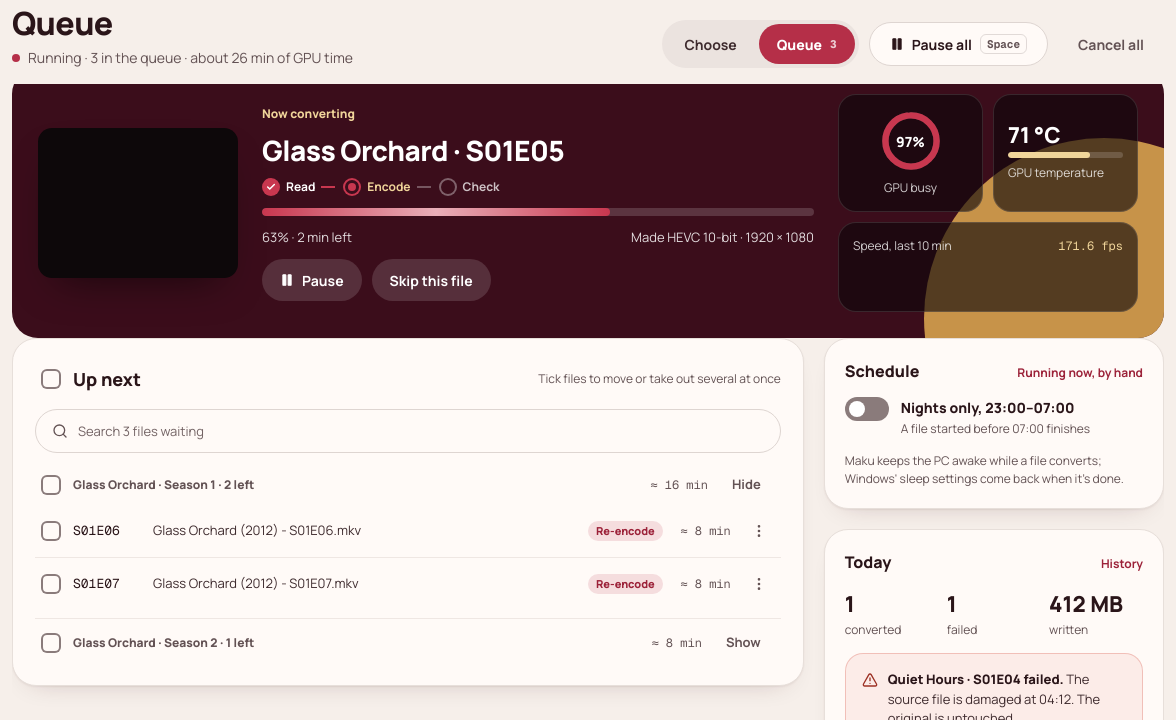
it: QueuePage › says why skipping, taking out or trying again didn't work
Click the button "Skip this file": (431, 280) [372, 259, 491, 301]
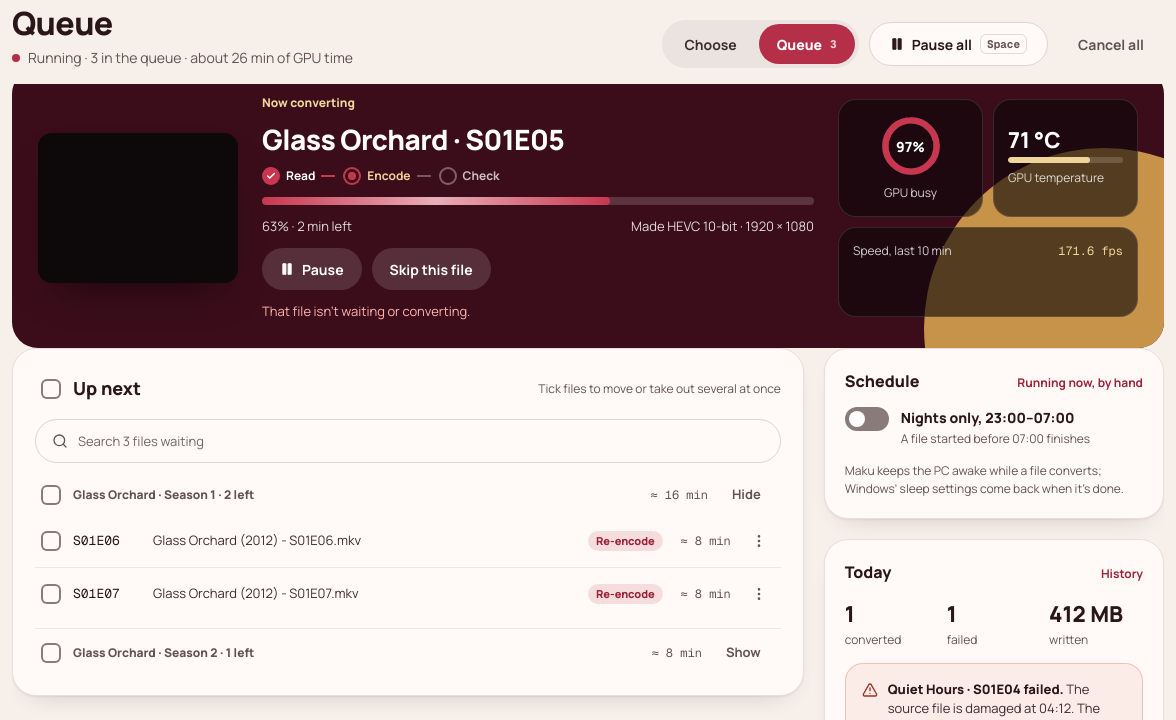
Now the text "That file isn't waiting or converting." is shown, box [262, 302, 470, 320]
Press Enter in the button named "More for Glass Orchard · S01E07", box [743, 578, 775, 610]
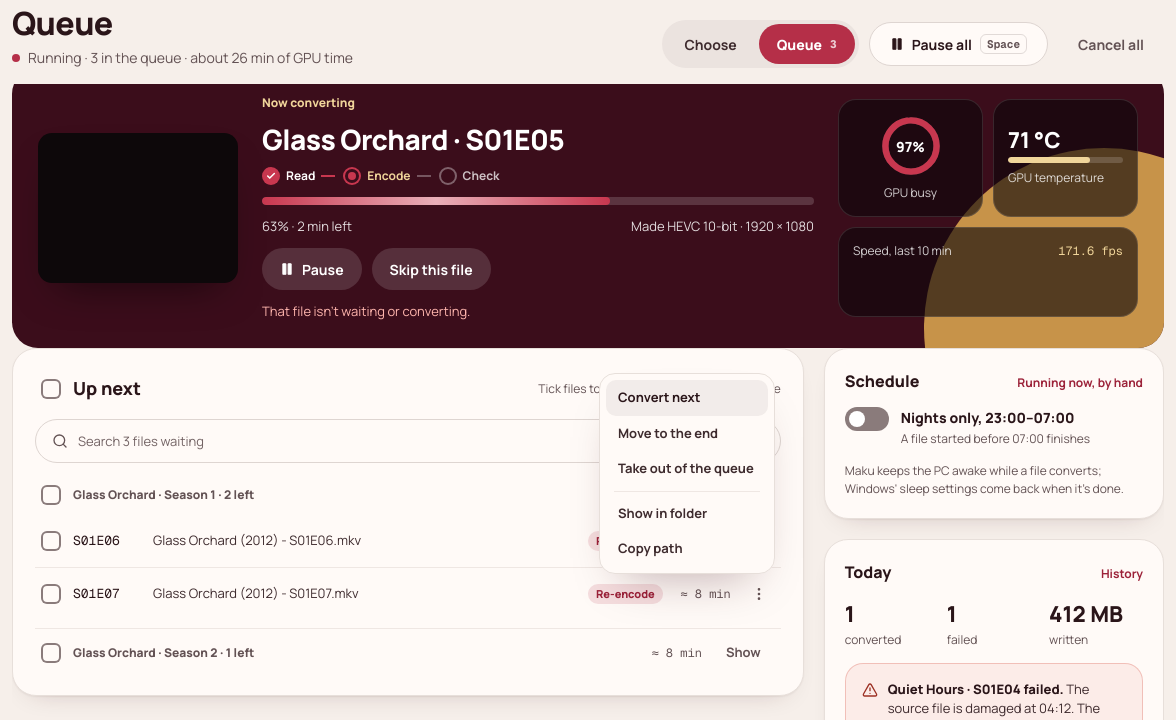
Click the menu item "Take out of the queue": (686, 468) [618, 459, 754, 477]
(page scrolled)
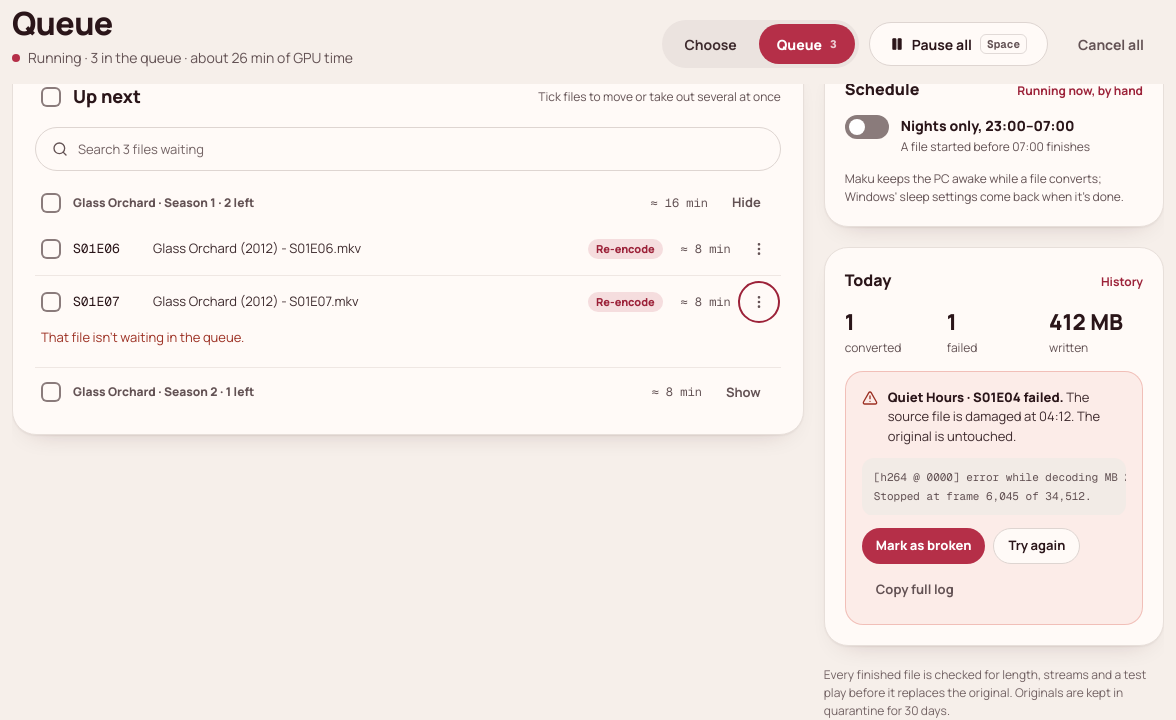
Now the text "That file isn't waiting in the queue." is shown, box [41, 328, 244, 346]
Click the button "Try again": (1037, 546) [994, 528, 1080, 564]
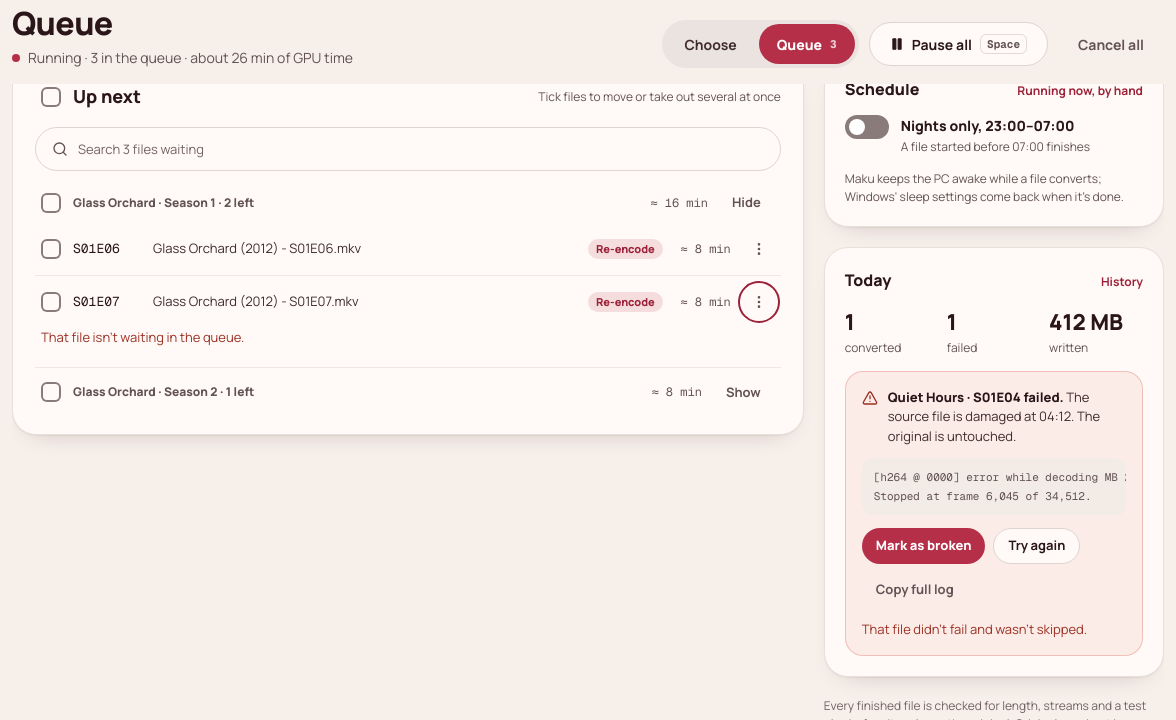
Now the text "That file didn't fail and wasn't skipped." is shown, box [862, 620, 1126, 639]
